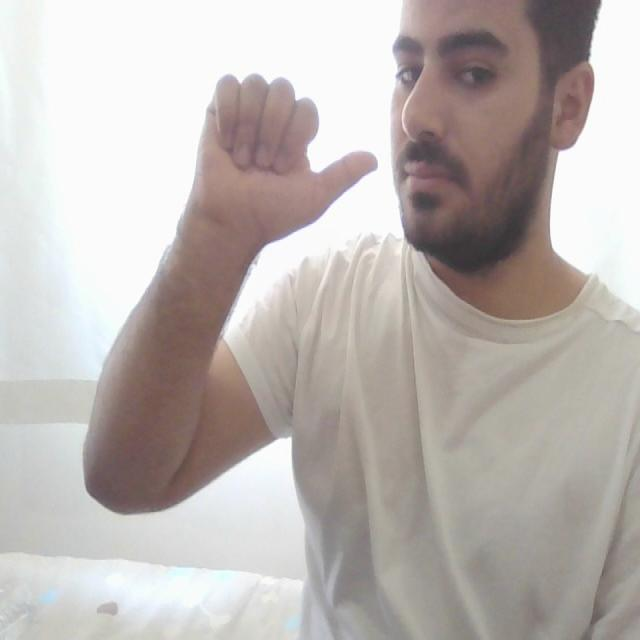icmek: (148, 73, 428, 236)
